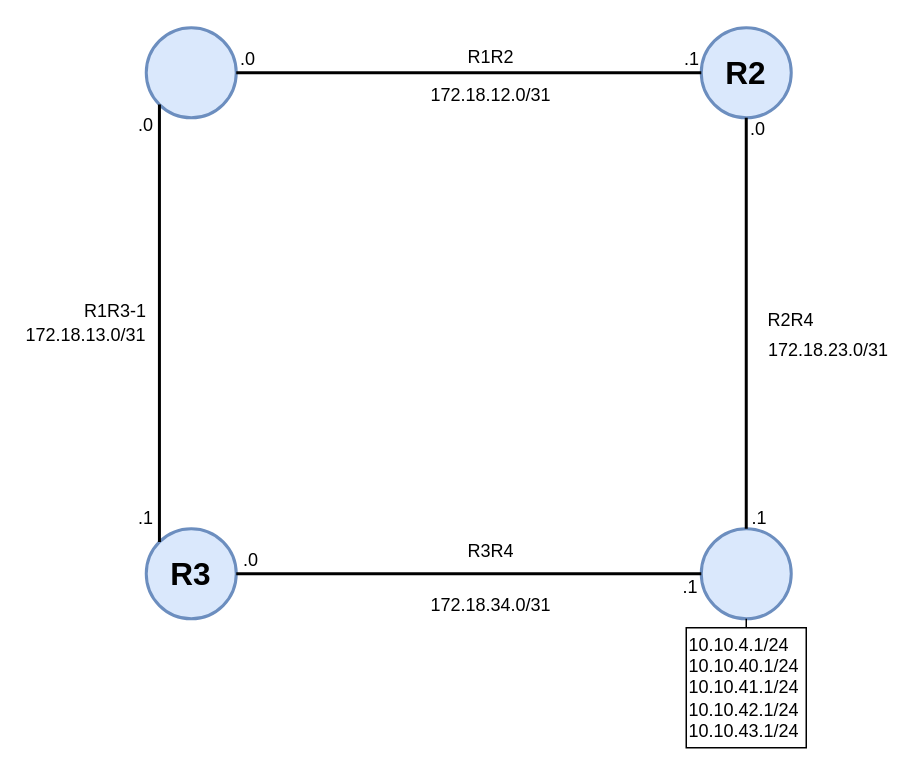
The diagram is 921 pixels wide and 774 high, and some of its shapes have lost their labels. The centre of each missing label's shape, as x and y in pixels:
"R1" belongs at (x=190, y=72).
"R4" belongs at (x=745, y=573).
